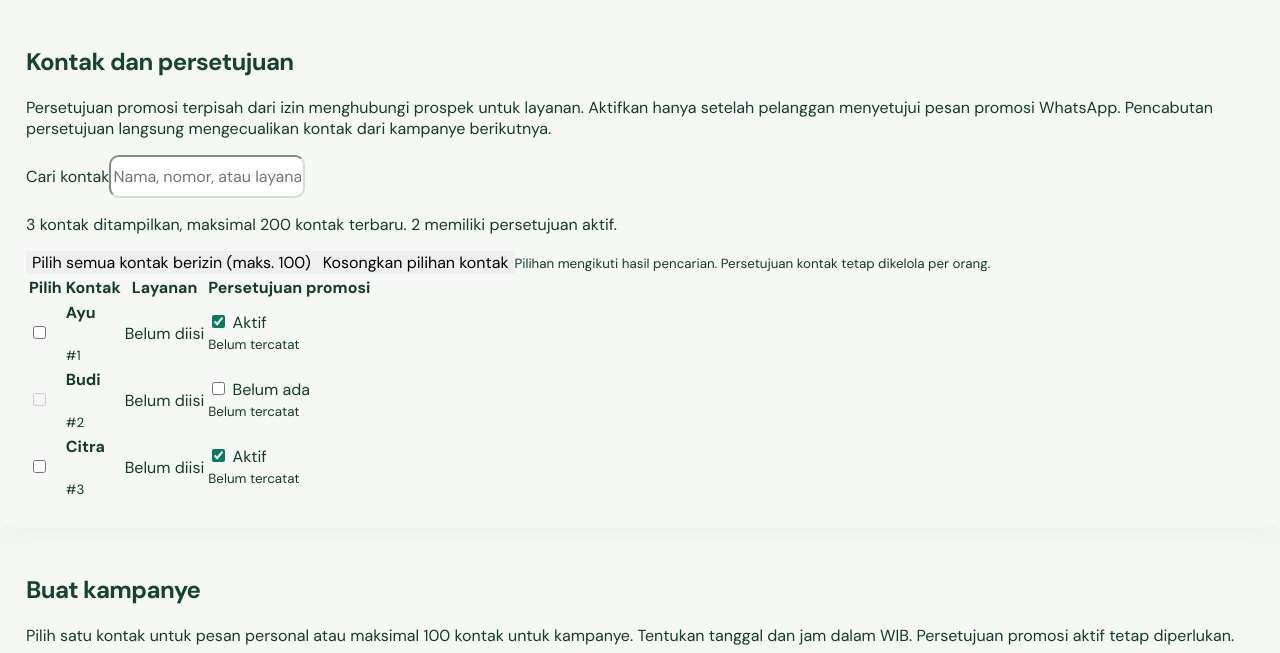
selects only consented contacts matching the search and clears the selection
The width and height of the screenshot is (1280, 653).
In the field labelled "Cari kontak": (207, 176) [109,155,305,198], type "Ayu"
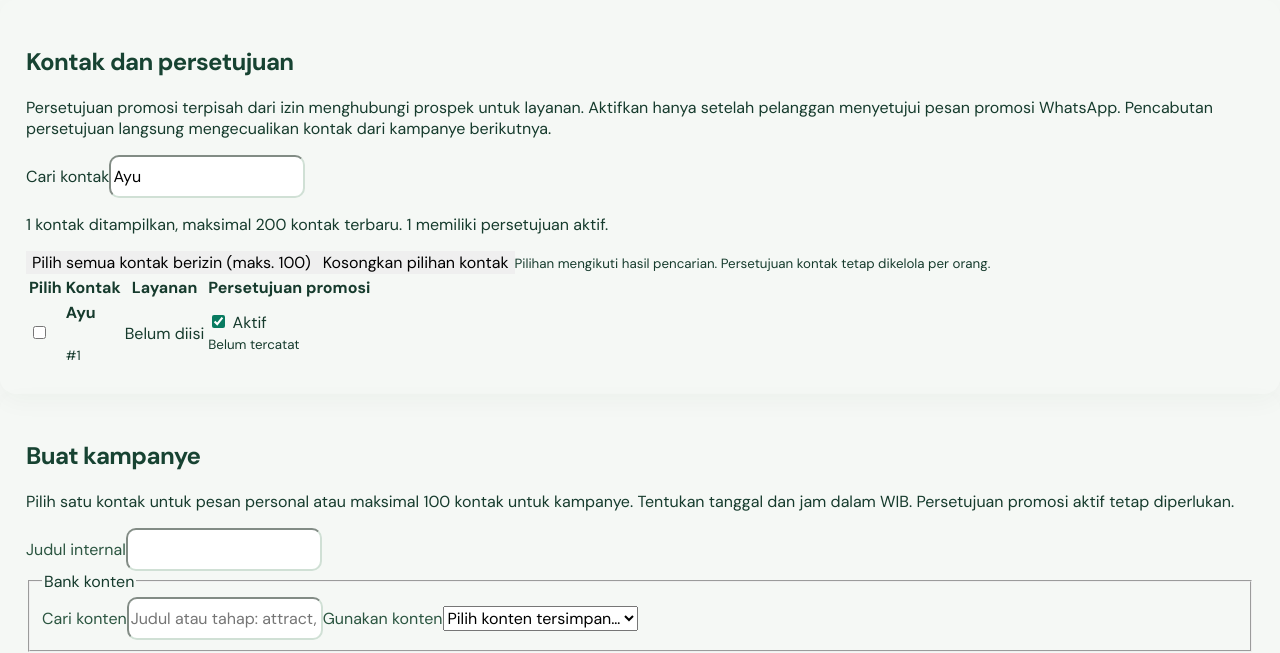
Click the button "Pilih semua kontak berizin (maks. 100)": (171, 262) [26,251,317,274]
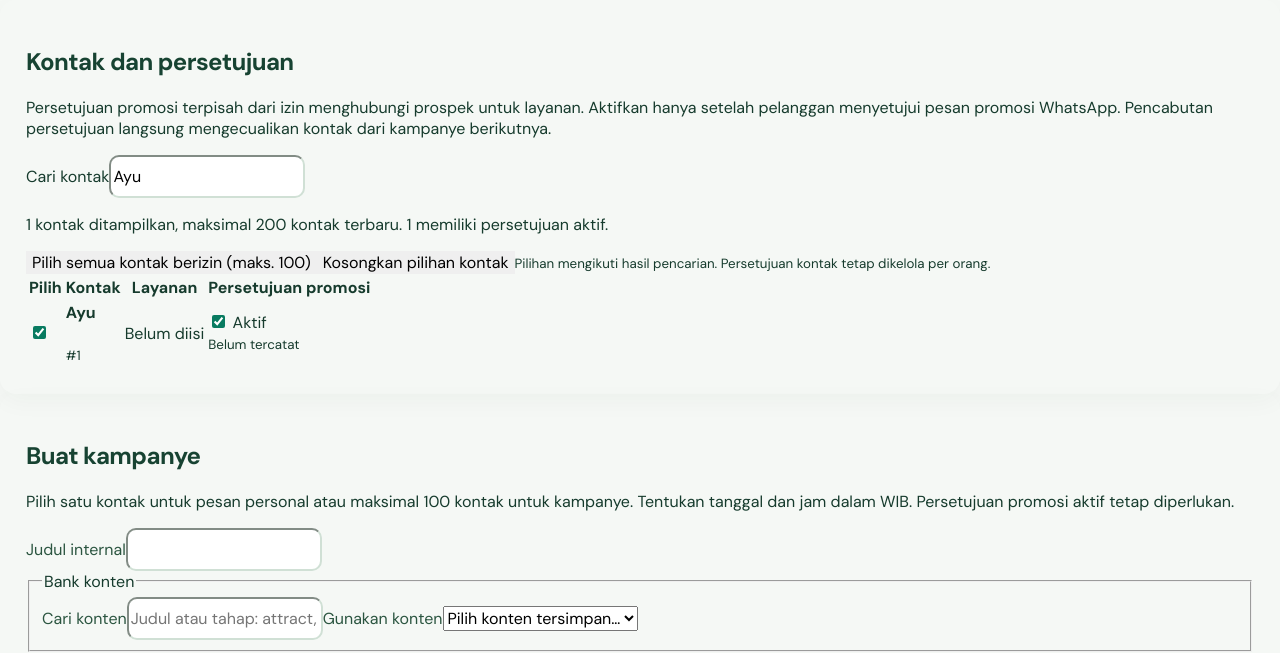
Expected: the checkbox named "Pilih Ayu" is checked, [33,326,46,339]
Clear the field labelled "Cari kontak": (207, 176) [109,155,305,198]
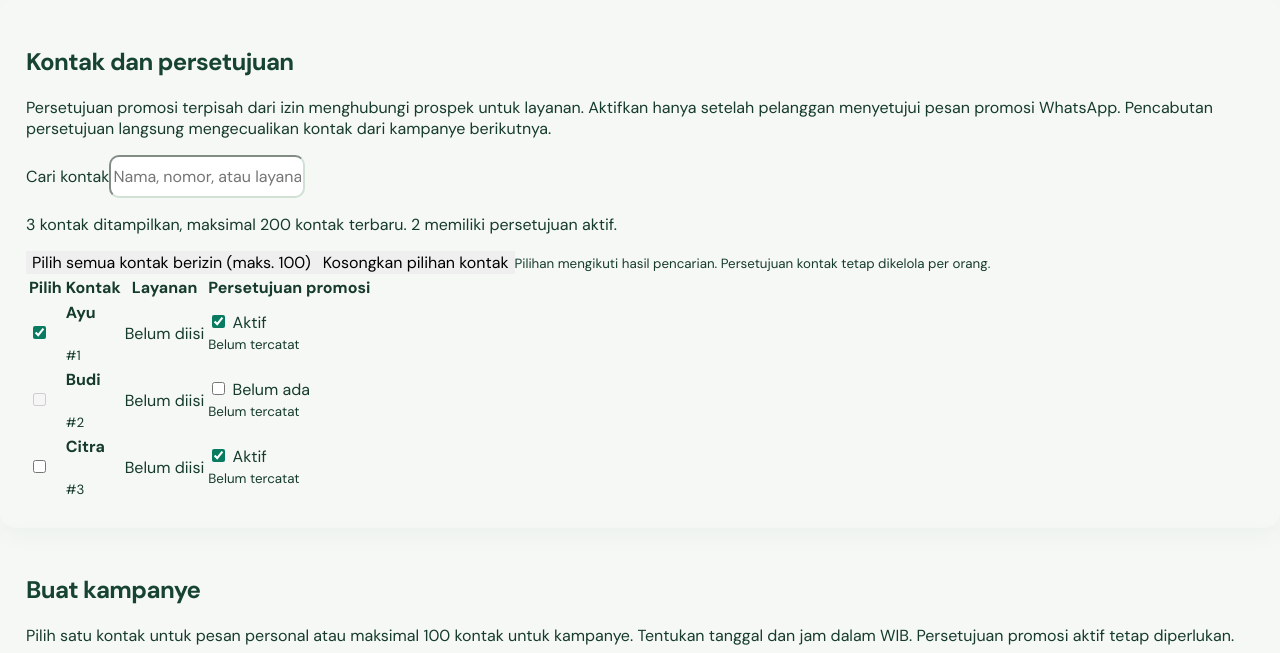
Expected: the checkbox named "Pilih Budi" is disabled, [33,393,46,406]
Expected: the checkbox named "Pilih Citra" is not checked, [33,460,46,473]
Click the button "Kosongkan pilihan kontak": (416, 262) [317,251,514,274]
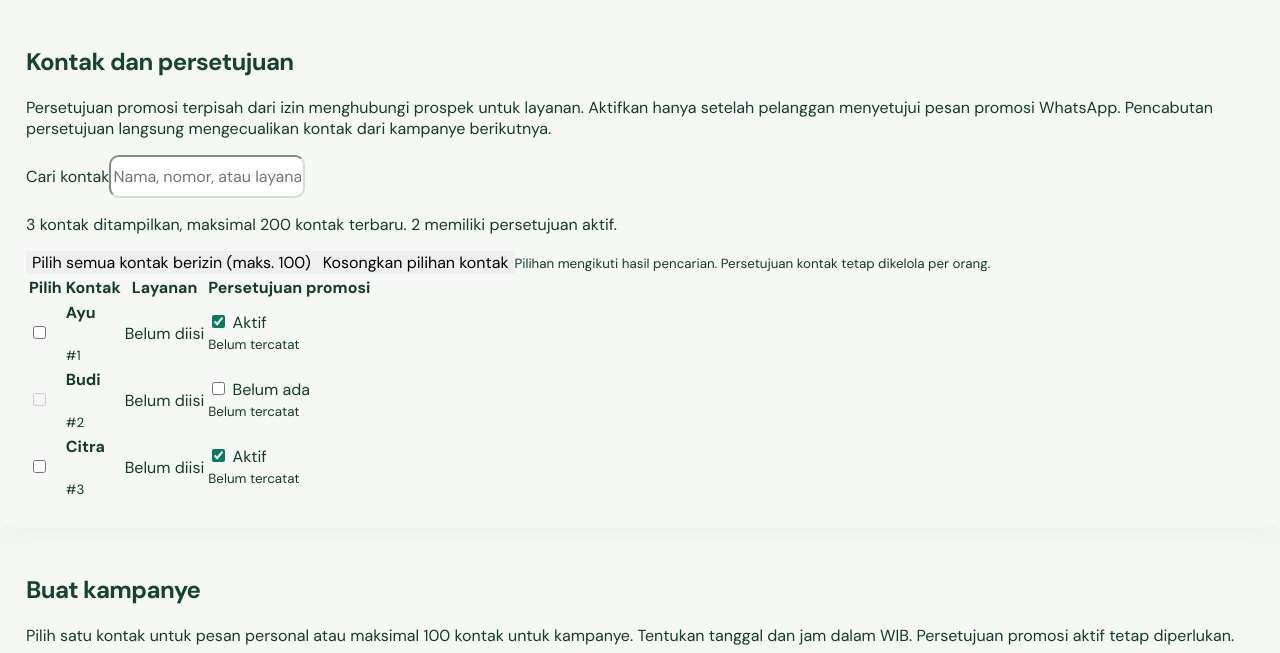
Expected: the checkbox named "Pilih Ayu" is not checked, [33,326,46,339]
